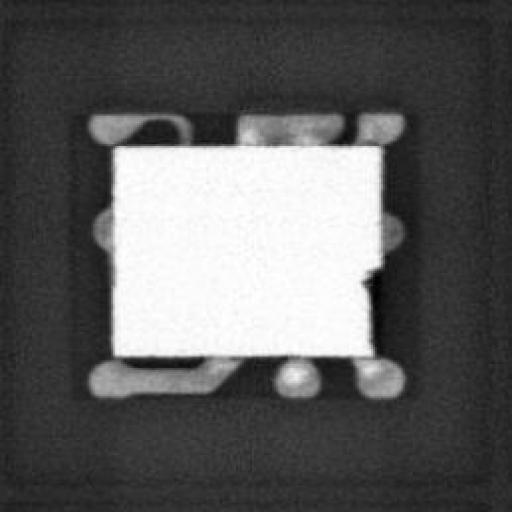DIE_BROKEN: (355, 264, 383, 356)
